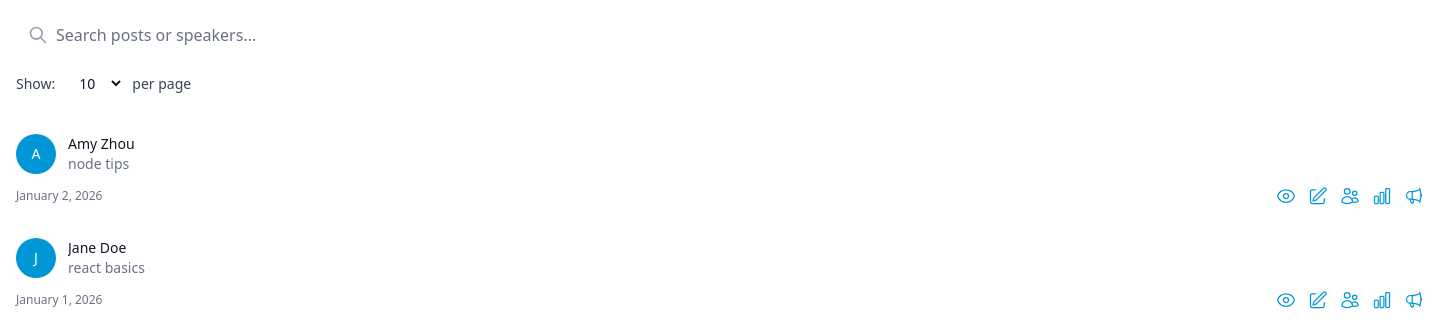
BlogPostsTable › filters by search term across title and speaker
In the field with placeholder "Search posts or speakers...": (240, 35) x1=16 y1=17 x2=464 y2=53, type "react"
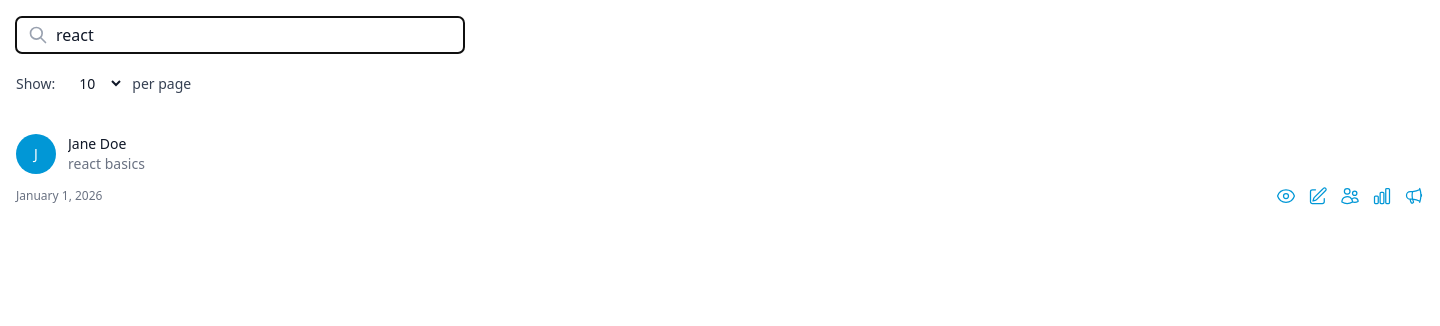
Check: the text "react basics" is shown, box x1=68 y1=154 x2=145 y2=173
Check: the text "node tips" is not shown
